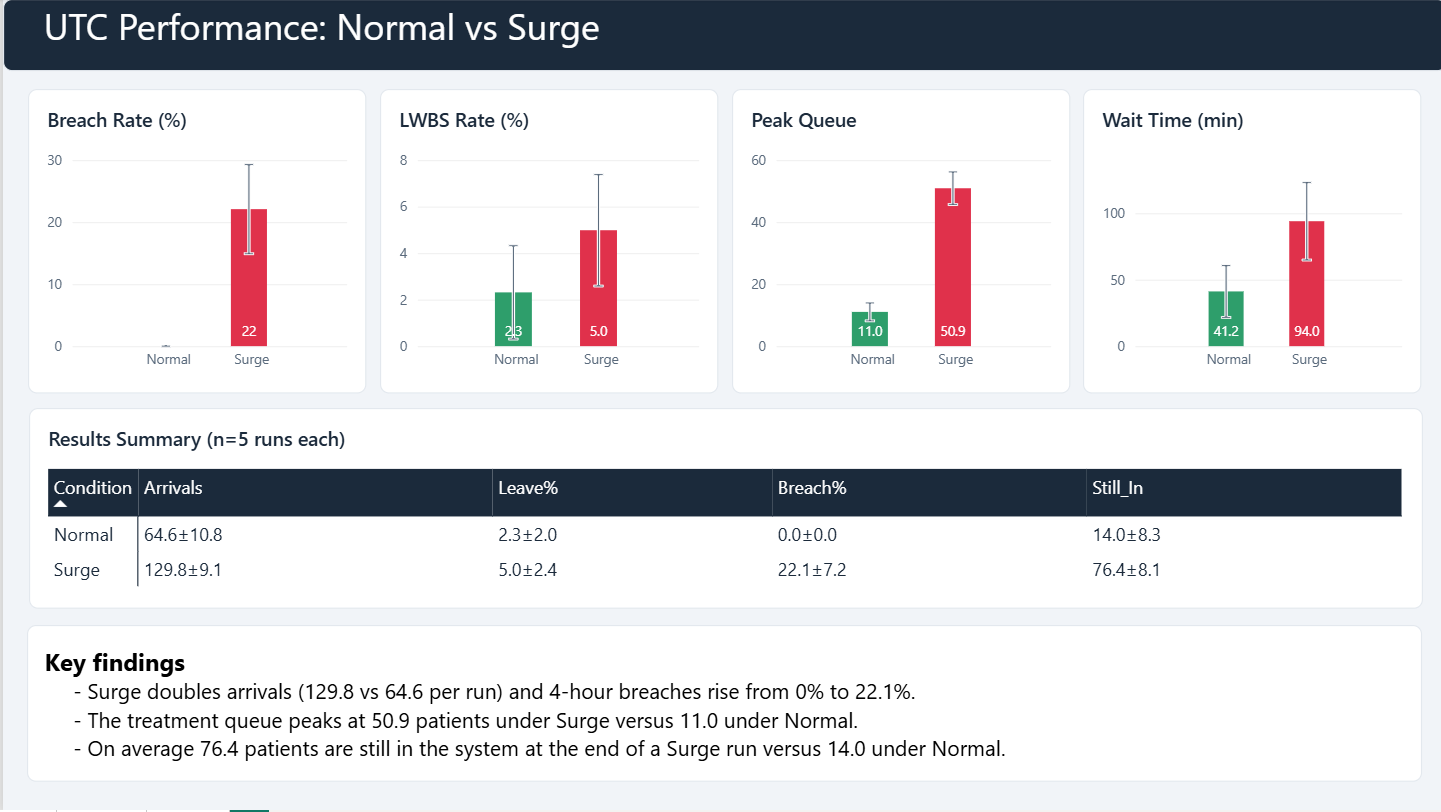

Layout of this report page (visuals, bound fields, positions):
{"tool":"powerbi","page":{"name":"Overview","canvas":[1280,720],"ordinal":0},"visuals":[{"type":"clusteredColumnChart","title":"Breach Rate (%)","fields":{"Category":["Dim_Condition.Condition"],"Y":["_Measures.Breach % Mean"]},"box":[22,80,300,270],"z":0},{"type":"clusteredColumnChart","title":"LWBS Rate (%)","fields":{"Category":["Dim_Condition.Condition"],"Y":["_Measures.Leave % Mean"]},"box":[334,80,300,270],"z":1000},{"type":"clusteredColumnChart","title":"Wait Time (min)","fields":{"Category":["Dim_Condition.Condition"],"Y":["_Measures.Wait Mean"]},"box":[958,80,300,270],"z":2000},{"type":"clusteredColumnChart","title":"Peak Queue","fields":{"Category":["Dim_Condition.Condition"],"Y":["_Measures.Peak Queue Mean"]},"box":[646,80,300,270],"z":3000},{"type":"pivotTable","title":"Results Summary (n=5 runs each)","fields":{"Rows":["Dim_Condition.Condition"],"Values":["_Measures.Arrivals (±SD)","_Measures.Leave% (±SD)","_Measures.Breach% (±SD)","_Measures.Still_In (±SD)"]},"box":[22.8,363.1,1235.6,177.7],"z":4000},{"type":"textbox","box":[0,0,1280,64],"z":5000},{"type":"textbox","box":[21.7,554.9,1236.6,138.7],"z":6000}]}

Visuals, with their boxes in screenshot pixels (x1, y1, x2, y2), scaled from the page's 1280x720 canvas onto the 1441x812 screenshot:
"Breach Rate (%)" clusteredColumnChart: 25,90,363,395
"LWBS Rate (%)" clusteredColumnChart: 376,90,714,395
"Wait Time (min)" clusteredColumnChart: 1078,90,1416,395
"Peak Queue" clusteredColumnChart: 727,90,1065,395
"Results Summary (n=5 runs each)" pivotTable: 26,409,1417,610
textbox: 0,0,1440,72
textbox: 24,626,1417,782
